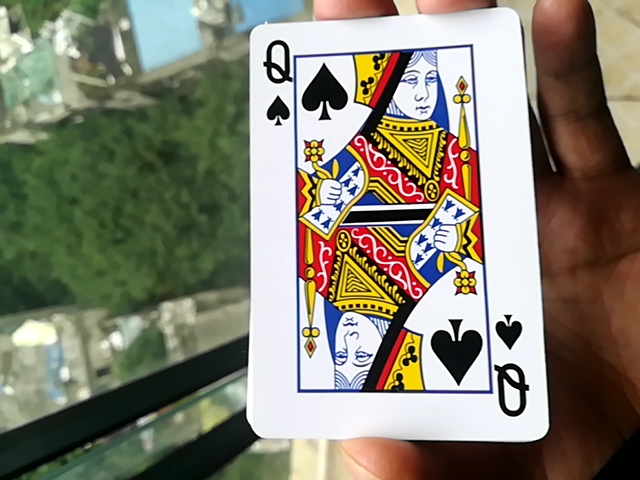ht q: (235, 4, 542, 448)
